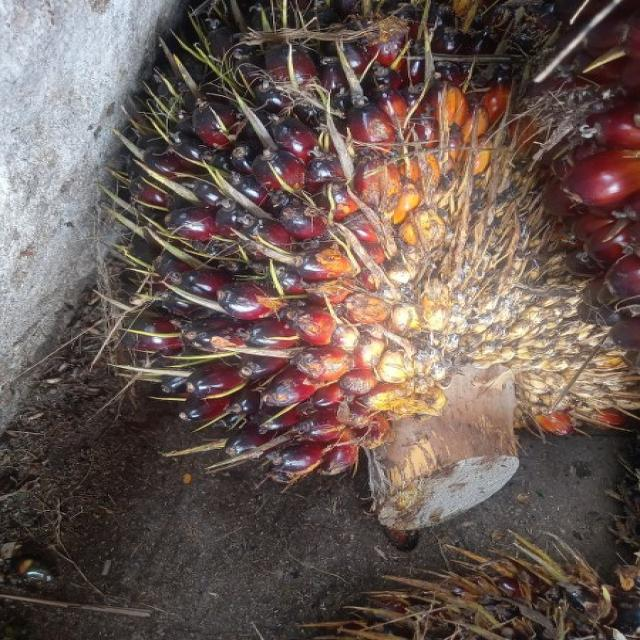fraksi 1: (126, 28, 622, 471)
